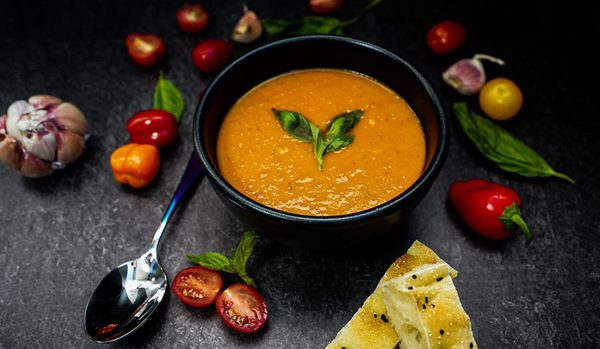salad: (85, 146, 205, 341)
steak: (124, 33, 166, 69)
sushi: (193, 34, 451, 238)
